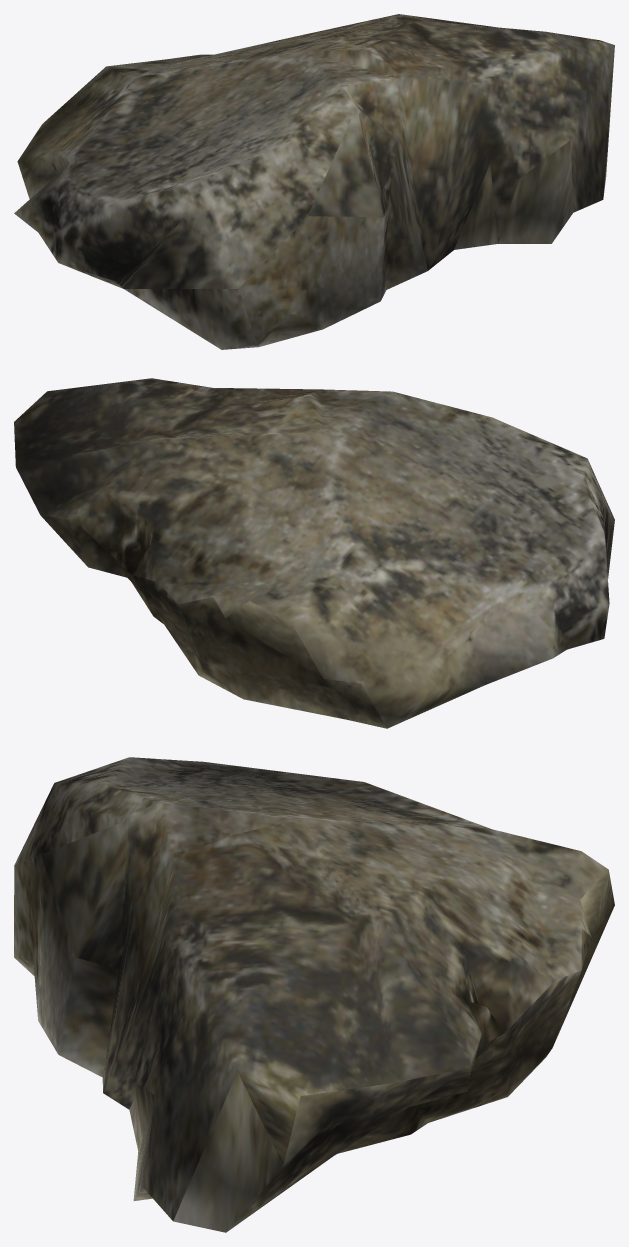
3 views of the same model, one above another, from view 1: azimuth 30°, elevation 25°; view 2: azimuth 150°, elevation 25°; view 3: azimuth 270°, elevation 25° (orthographic). The views are drawn at different scales.
Visible parts, largest first — view 1: moss_rock_11_001; view 2: moss_rock_11_001; view 3: moss_rock_11_001.
Boxes of the visible parts, <box> form: moss_rock_11_001: <box>14,14,614,349</box>; moss_rock_11_001: <box>14,378,614,728</box>; moss_rock_11_001: <box>14,757,614,1232</box>.
Size of the model in its own units: 2.19 by 1.53 by 0.7611.
1 material, 1 textured.
